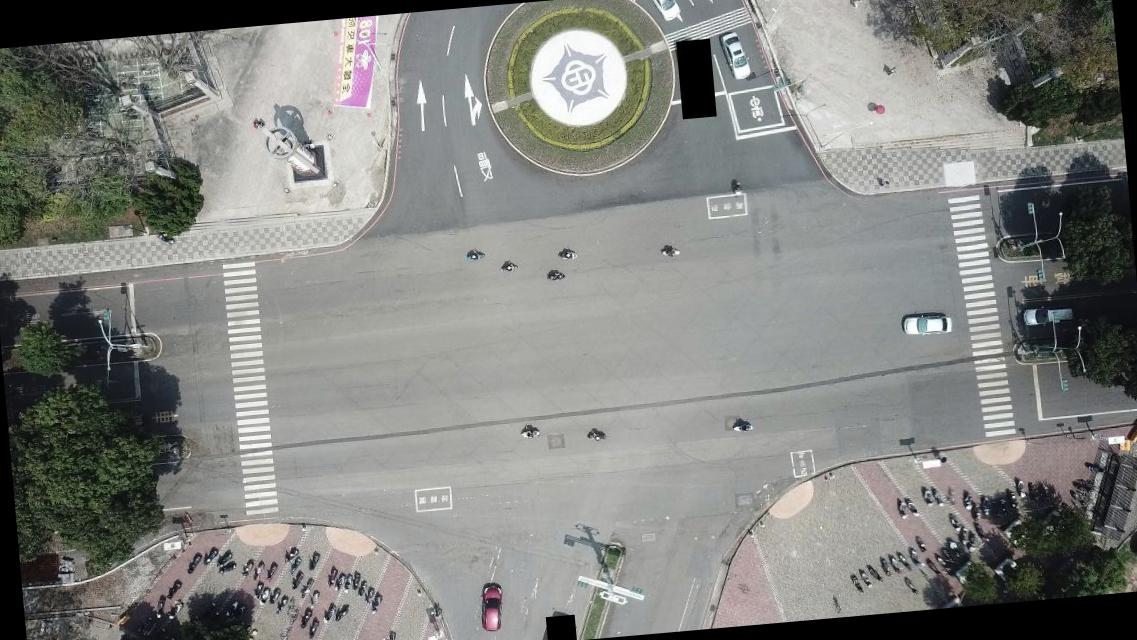vehicle: (477, 583, 507, 635), (1022, 304, 1076, 331), (722, 30, 751, 80), (900, 312, 955, 337), (648, 0, 682, 24)
